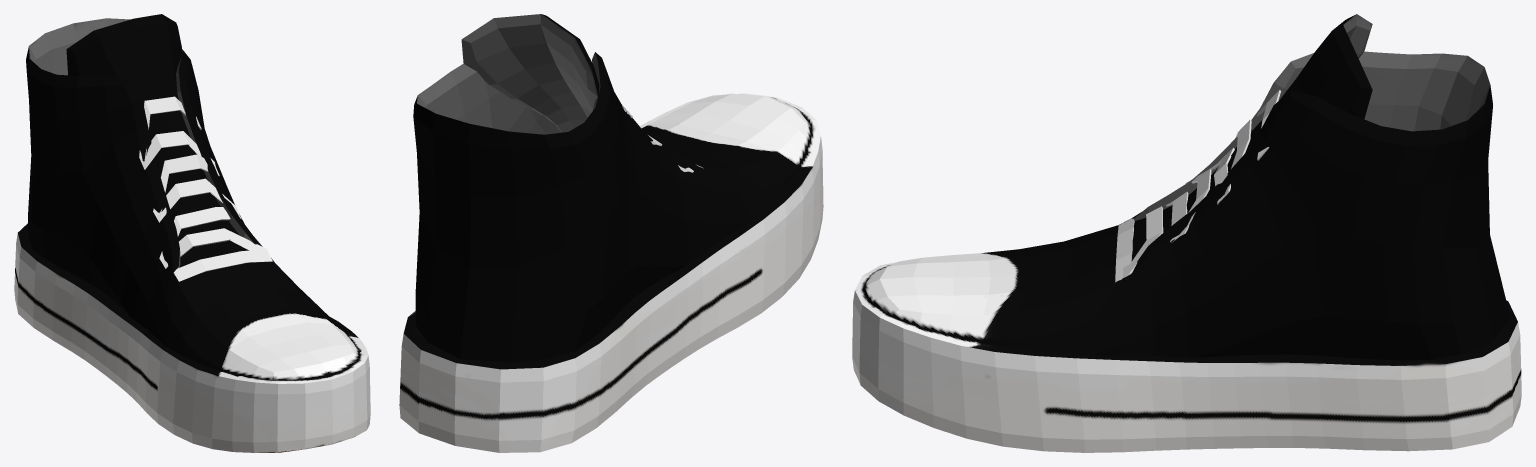
File: converse 1.fbx
3 renders of one model, left to right at view 1: azimuth 30°, elevation 25°; view 2: azimuth 150°, elevation 25°; view 3: azimuth 270°, elevation 25°, orthographic. The views are drawn at different scales.
Visible parts, largest first — view 1: Sole, laces; view 2: Sole; view 3: Sole, laces.
Boxes of the visible parts, box(x1,y1,x2,y2) form: Sole: box(14, 14, 370, 452); laces: box(139, 96, 272, 281); Sole: box(399, 14, 823, 452); Sole: box(852, 14, 1521, 452); laces: box(1115, 90, 1280, 282).
Bounding box in the file's own units: 301 × 546 × 861.
